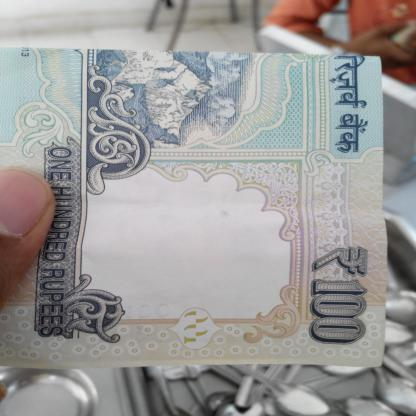Old100Back: (0, 46, 391, 369)
